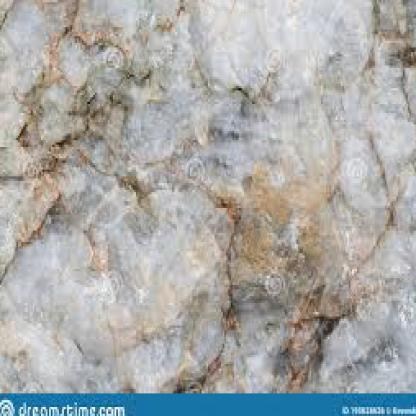Metamorphic_Marble: (0, 0, 415, 387)
